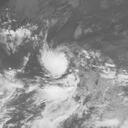cyclone: (41, 48, 69, 78)
